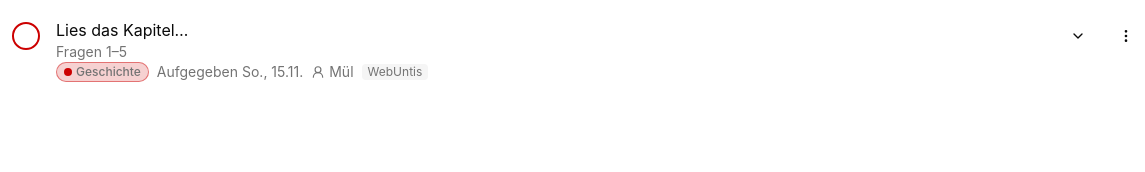
Test: HomeworkRow › zeigt Fach-Label, Metadaten und klappt den vollständigen Text auf
This screenshot has width=1145, height=172.
Expected: the element with test id "subject-badge" reads "Geschichte", [76,64,141,79]
Expected: the element with test id "hw-teacher" reads "Mül", [329,63,354,80]
Click the button named "Ganzen Text zeigen".
click(1078, 36)  # box [1056,14,1100,58]
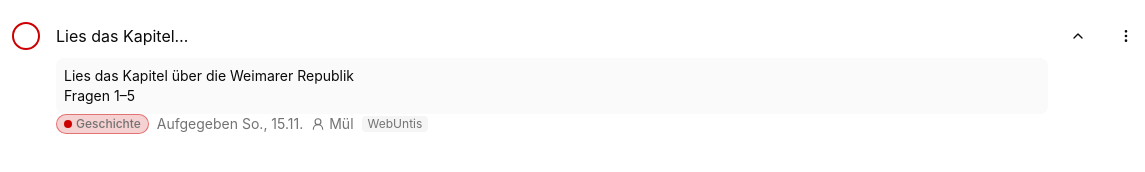
Expected: the button named "Ganzen Text zeigen" is expanded, [1056,14,1100,58]
